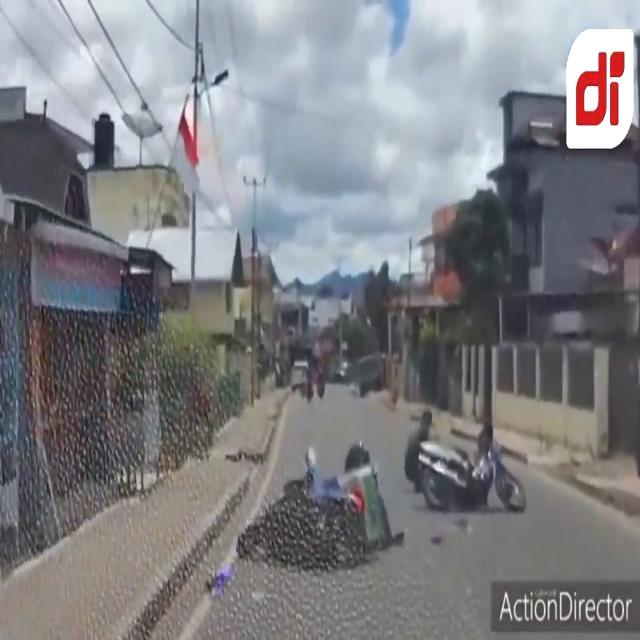accident: (202, 408, 528, 594)
non-accident: (289, 358, 327, 404)
